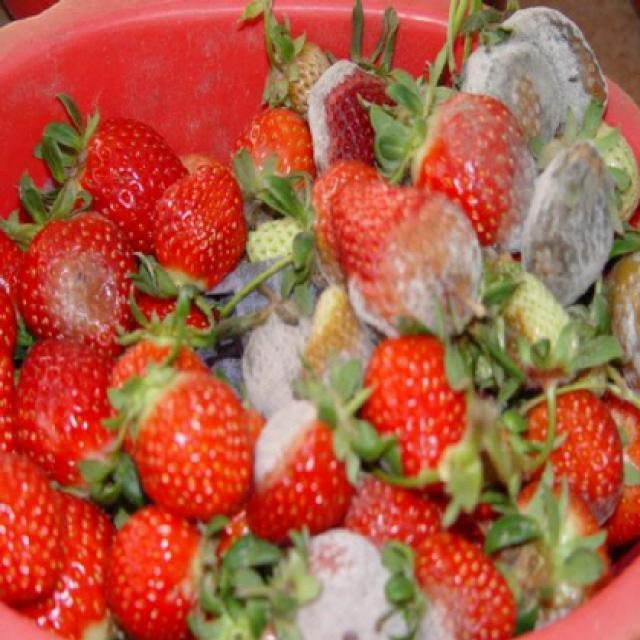Gray Mold: (331, 176, 484, 340), (409, 88, 539, 255), (268, 534, 455, 638), (15, 211, 135, 358), (518, 141, 618, 309), (496, 7, 613, 146), (246, 402, 354, 546), (306, 59, 424, 178), (463, 38, 566, 169), (240, 307, 308, 422)
